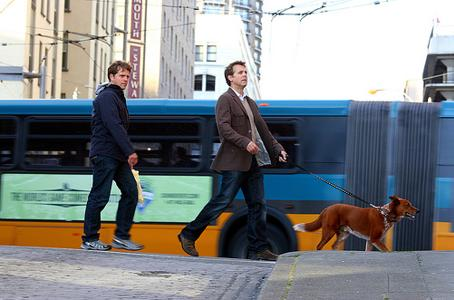person: (177, 62, 290, 262)
